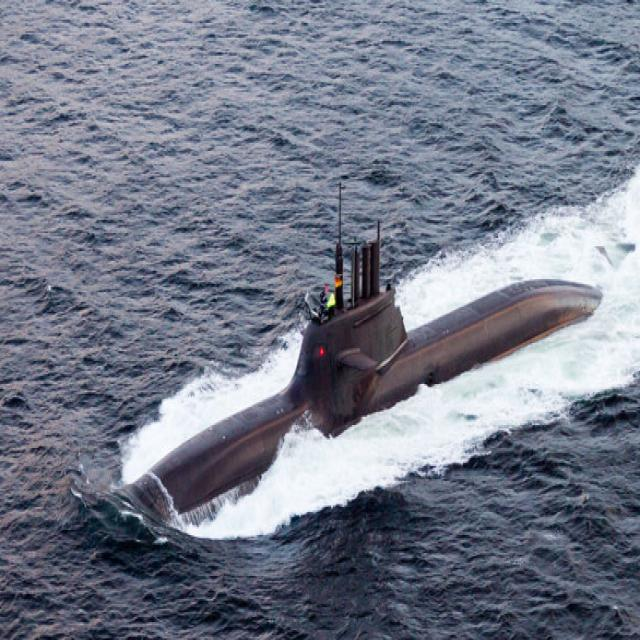submarine: (85, 188, 637, 541)
